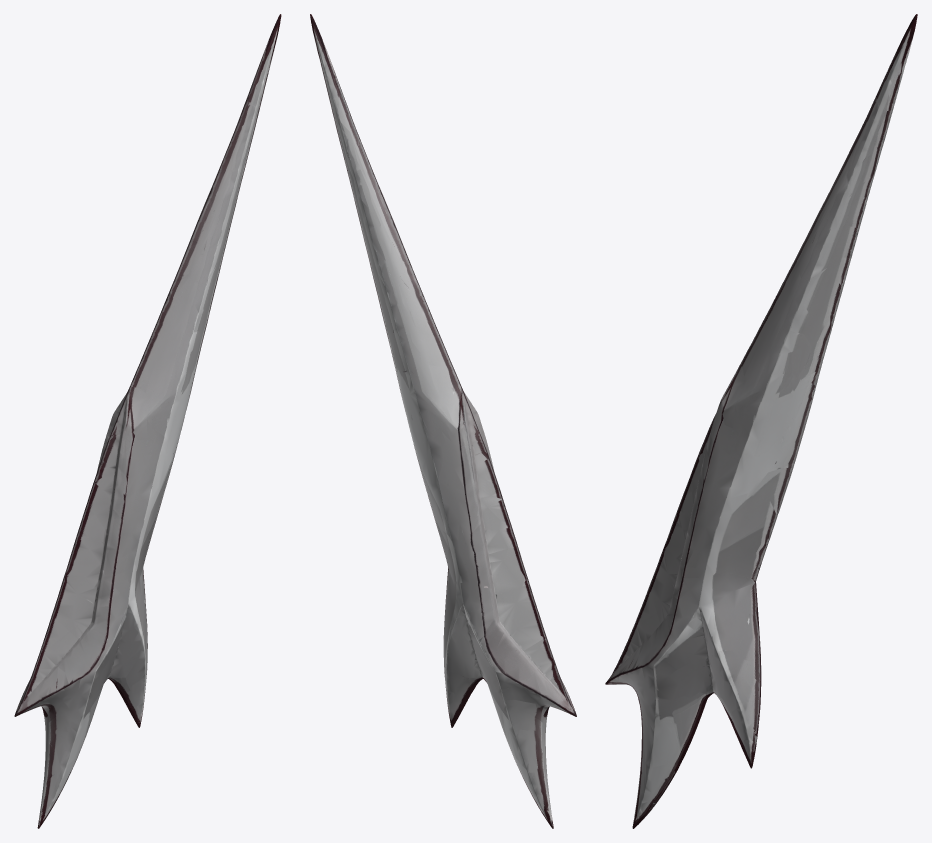
The model's file is vivi-weapon.fbx.
3 renders of one model, left to right at view 1: azimuth 30°, elevation 25°; view 2: azimuth 150°, elevation 25°; view 3: azimuth 330°, elevation 25°, orthographic. The views are drawn at different scales.
Visible parts, largest first — view 1: vivi_weapon; view 2: vivi_weapon; view 3: vivi_weapon.
Boxes of the visible parts, x1,y1,x2,y2 form: vivi_weapon: [14, 14, 281, 828]; vivi_weapon: [310, 14, 576, 828]; vivi_weapon: [605, 14, 917, 828].
Bounding box in the file's own units: 38.77 × 105 × 10.07.
1 material, 1 textured.
